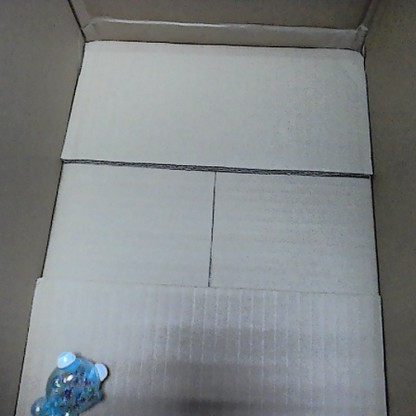bluefish: (27, 348, 109, 414)
